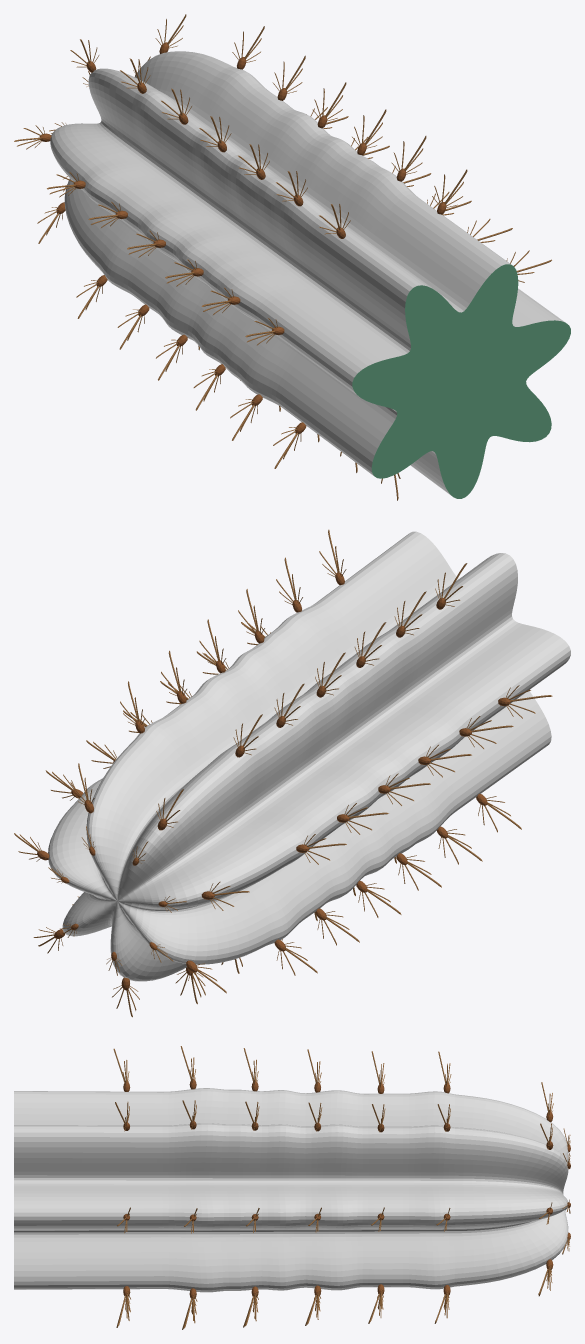
Rendered from frame-118.glb.
The picture shows the model from 3 angles, top to bottom: view 1: azimuth 30°, elevation 25°; view 2: azimuth 150°, elevation 25°; view 3: azimuth 270°, elevation 25°; orthographic projection. The views are drawn at different scales.
Visible parts, largest first — view 1: WACHUMA_Pachanoi_Frame_118; view 2: WACHUMA_Pachanoi_Frame_118; view 3: WACHUMA_Pachanoi_Frame_118.
Part boxes in pixels (<box>): WACHUMA_Pachanoi_Frame_118: <box>14,14,570,500</box>; WACHUMA_Pachanoi_Frame_118: <box>14,529,570,1017</box>; WACHUMA_Pachanoi_Frame_118: <box>14,1046,570,1329</box>.
Size of the model in its own units: 1.22 by 1.19 by 2.34.
